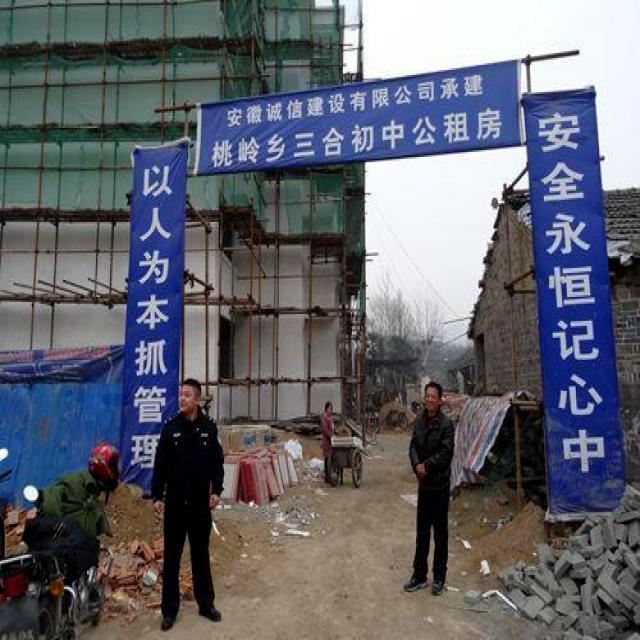no_head_wear: (182, 379, 201, 398), (425, 381, 442, 398)
person: (151, 381, 223, 628), (403, 382, 454, 594)
